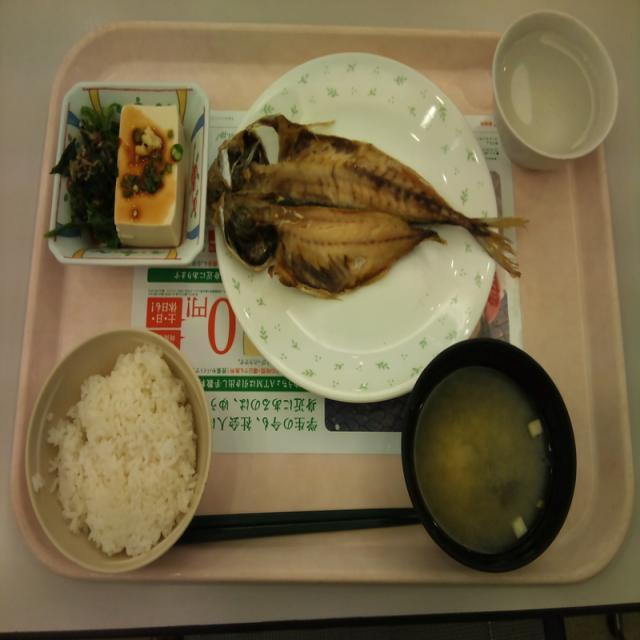Rice: (34, 347, 194, 566)
